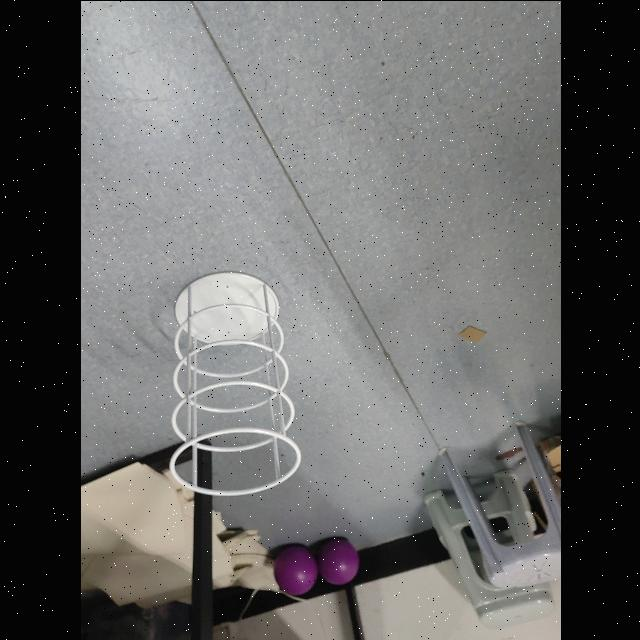S: (164, 271, 304, 499)
